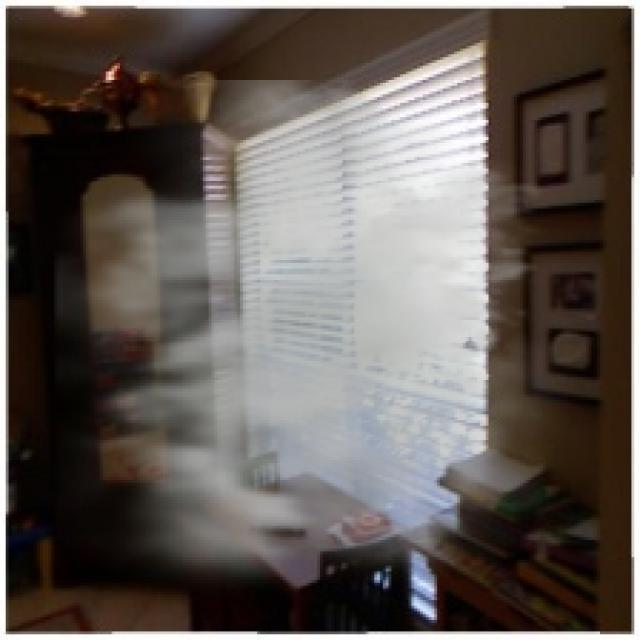Smoke: (55, 80, 594, 614)
